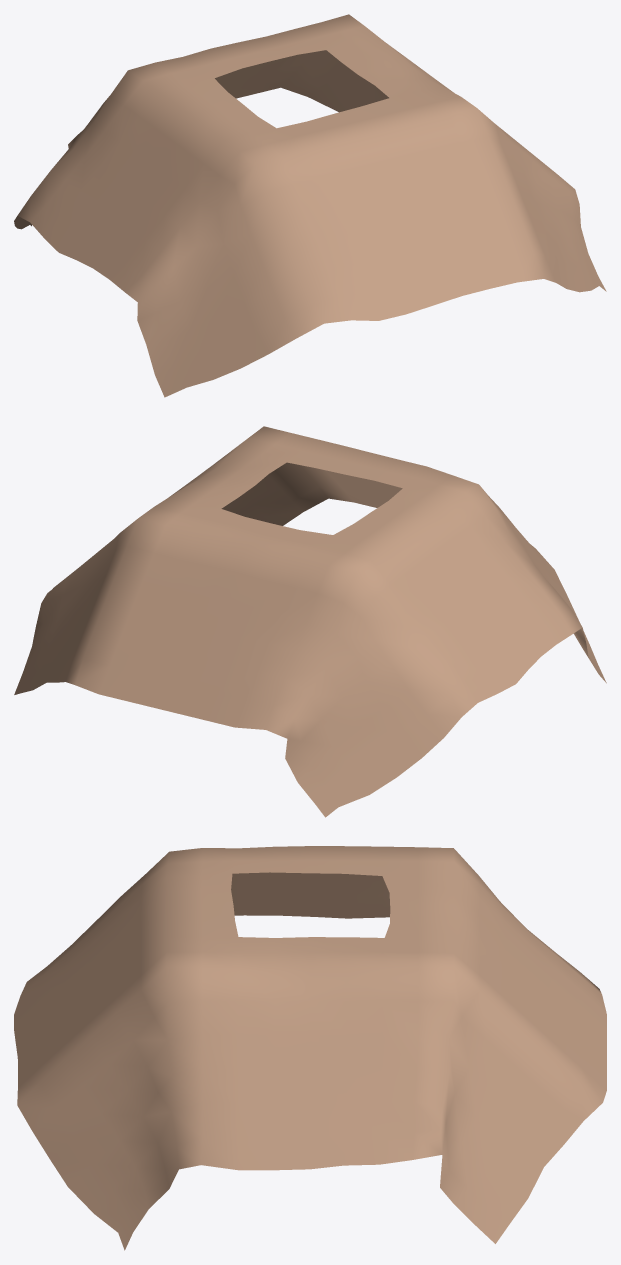
File: LightShade.FBX
The picture shows the model from 3 angles, top to bottom: view 1: azimuth 30°, elevation 25°; view 2: azimuth 150°, elevation 25°; view 3: azimuth 270°, elevation 25°; orthographic projection. The views are drawn at different scales.
Visible parts, largest first — view 1: Plane001; view 2: Plane001; view 3: Plane001.
Boxes of the visible parts, x1,y1,x2,y2 form: Plane001: (14,14,606,397); Plane001: (14,426,606,817); Plane001: (14,846,606,1250).
Size of the model in its own units: 50.07 by 20.79 by 50.24.
